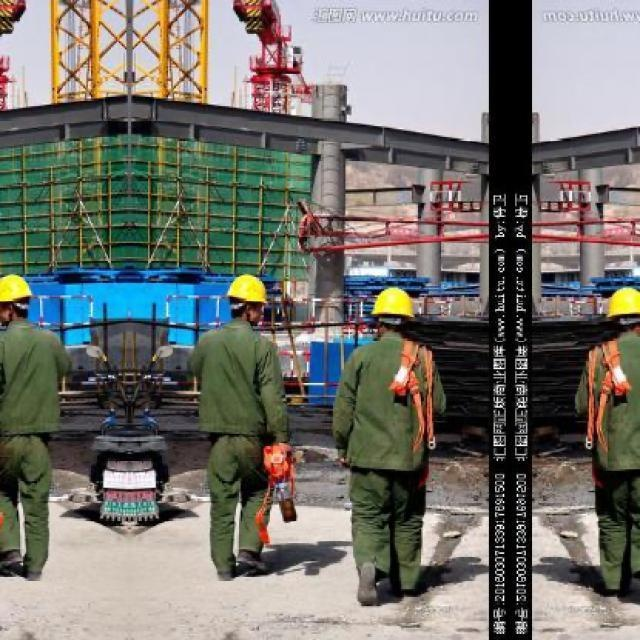Arnes_seguridad: (585, 338, 630, 455)
